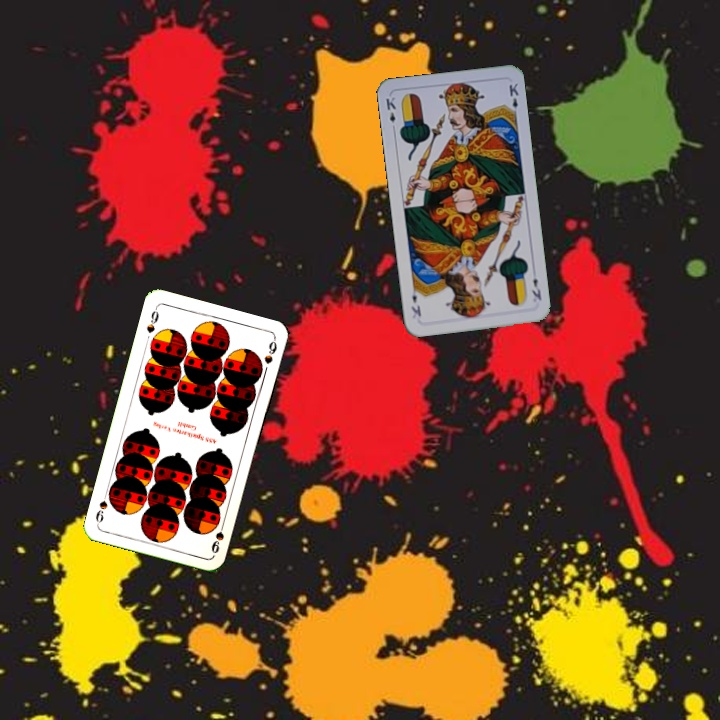EK: (382, 93, 399, 134), (528, 274, 544, 303)
S9: (207, 517, 227, 556), (142, 303, 161, 336)
